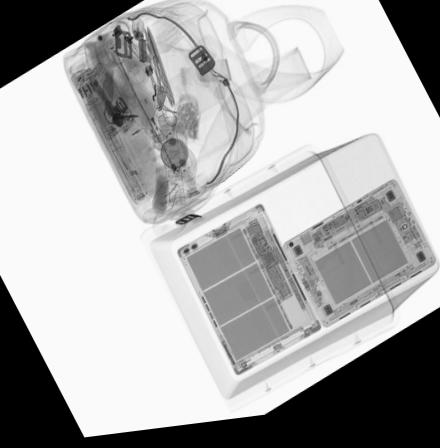Lighter: (148, 118, 176, 151)
